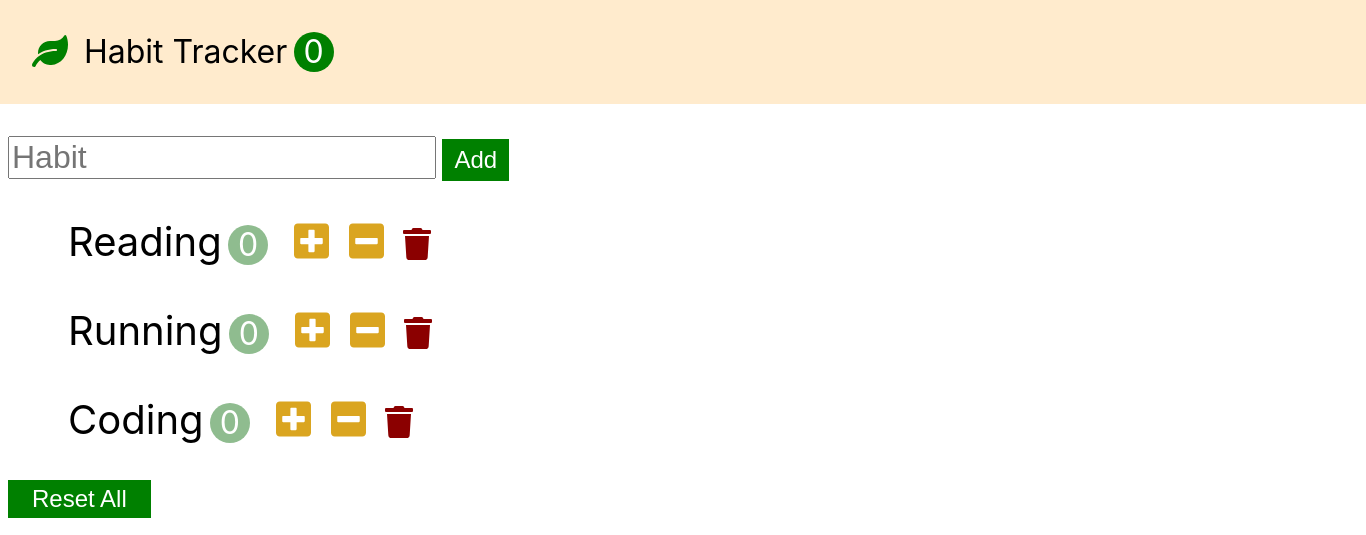
Test: Habit tracker › delete an item
This screenshot has width=1366, height=535.
Click the button named "delete" in the row of "Reading" at [417, 246], box [397,226,437,265]
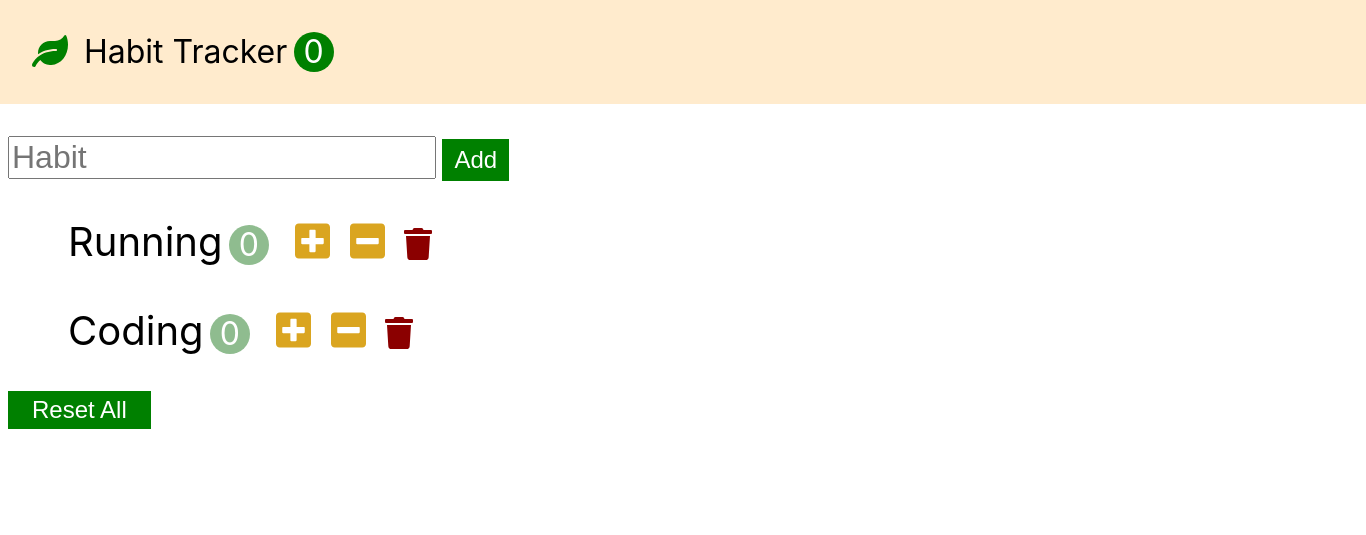
Expected: the text "Reading" is gone
